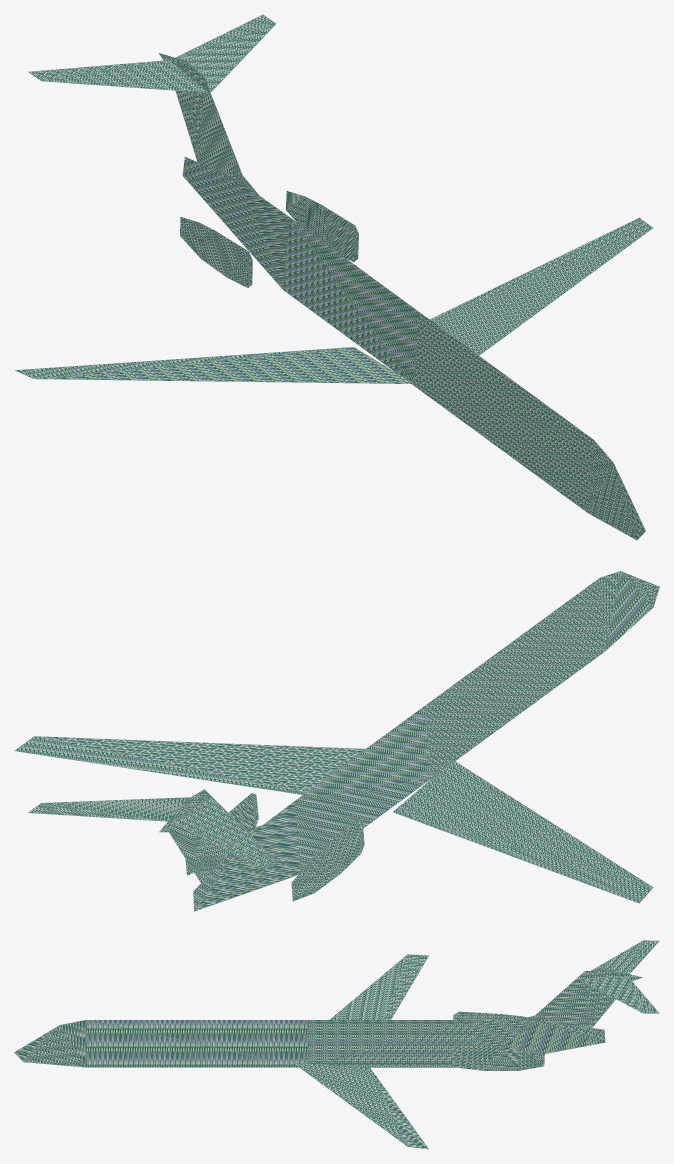
The model's file is AIA_MD8x_SD_MSFS_LOD1.gltf.
The picture shows the model from 3 angles, top to bottom: view 1: azimuth 30°, elevation 25°; view 2: azimuth 150°, elevation 25°; view 3: azimuth 270°, elevation 25°; orthographic projection. The views are drawn at different scales.
Visible parts, largest first — view 1: node1; view 2: node1; view 3: node1.
Boxes of the visible parts, x1=… form: node1: x1=15, y1=14, x2=652, y2=540; node1: x1=14, y1=571, x2=659, y2=911; node1: x1=14, y1=940, x2=659, y2=1149.
Bounding box in the file's own units: 32.69 × 7.47 × 45.94.
